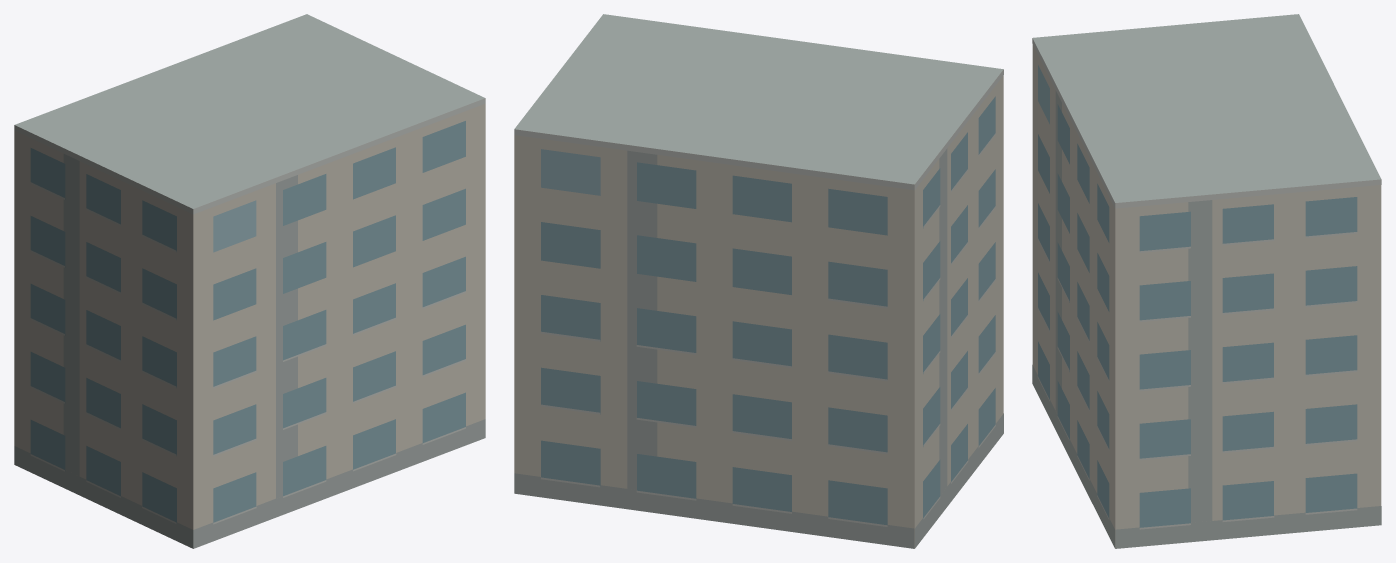
File: residential-f9056617-9e34-414b-b0b9-3b07260e3318.glb
3 views of the same model, side by side, from view 1: azimuth 30°, elevation 25°; view 2: azimuth 150°, elevation 25°; view 3: azimuth 270°, elevation 25° (orthographic). The views are drawn at different scales.
Visible parts, largest first — view 1: residential-f9056617-9e34-414b-b0b9-3b07260e3318.tmp; view 2: residential-f9056617-9e34-414b-b0b9-3b07260e3318.tmp; view 3: residential-f9056617-9e34-414b-b0b9-3b07260e3318.tmp.
Part boxes in pixels (x1,y1,x2,y2): residential-f9056617-9e34-414b-b0b9-3b07260e3318.tmp: (14, 14, 485, 548); residential-f9056617-9e34-414b-b0b9-3b07260e3318.tmp: (514, 14, 1003, 548); residential-f9056617-9e34-414b-b0b9-3b07260e3318.tmp: (1032, 14, 1381, 548).
Size of the model in its own units: 17.89 by 15.25 by 13.96.
